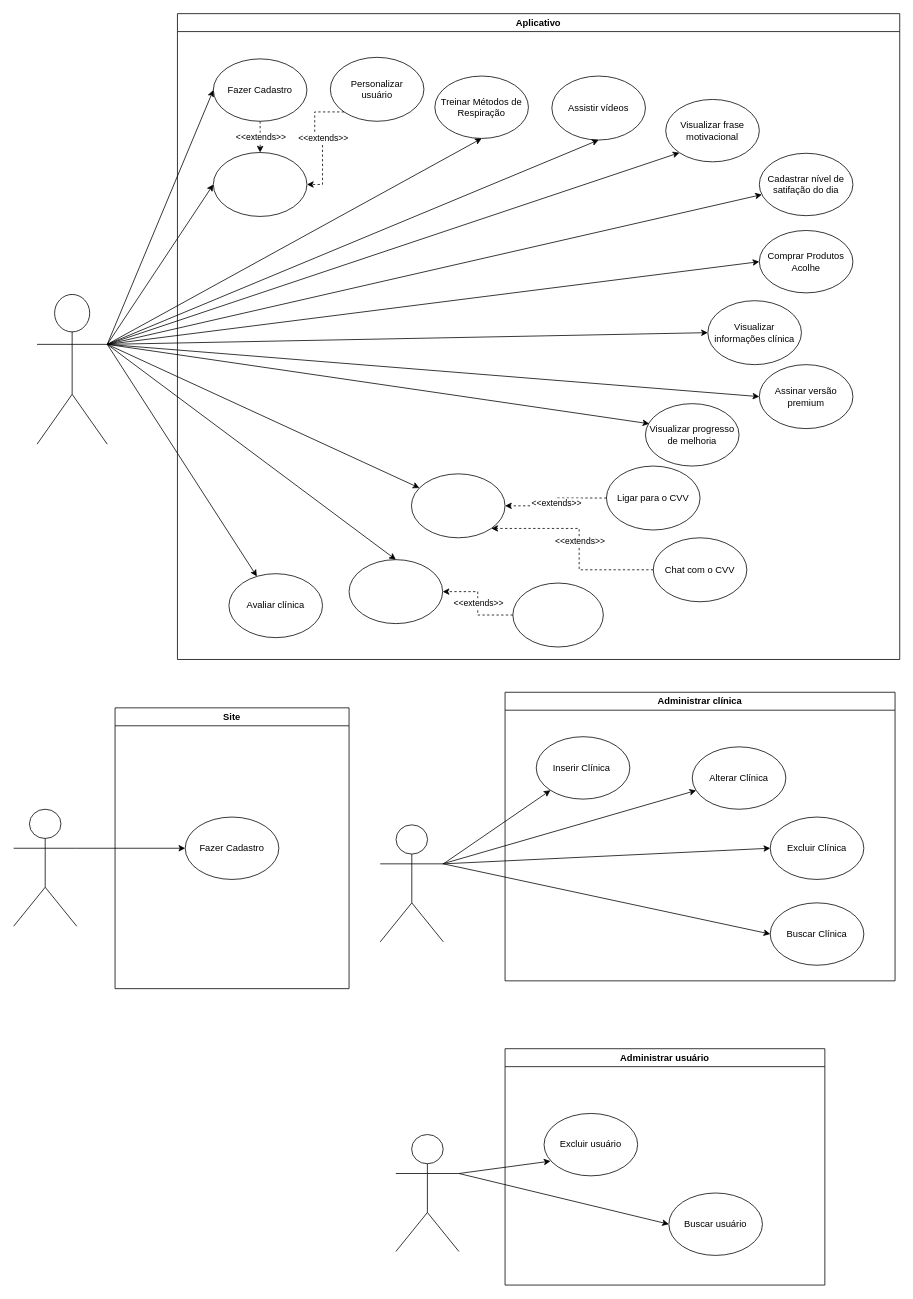
The diagram is 913 pixels wide and 1299 high, and some of its shapes have lost their labels. The shapes that lost their labels are listed below. From the top down, each one's centre as x and y in pixels, then its label:
pixel 260 184: Fazer Login
pixel 71 369: Usuário
pixel 458 505: Falar com CVV
pixel 395 591: Completar missões diárias
pixel 557 614: Receber medalhas
pixel 45 867: Clinica
pixel 411 883: Administrador Clínica
pixel 427 1193: Administrador Usuário
